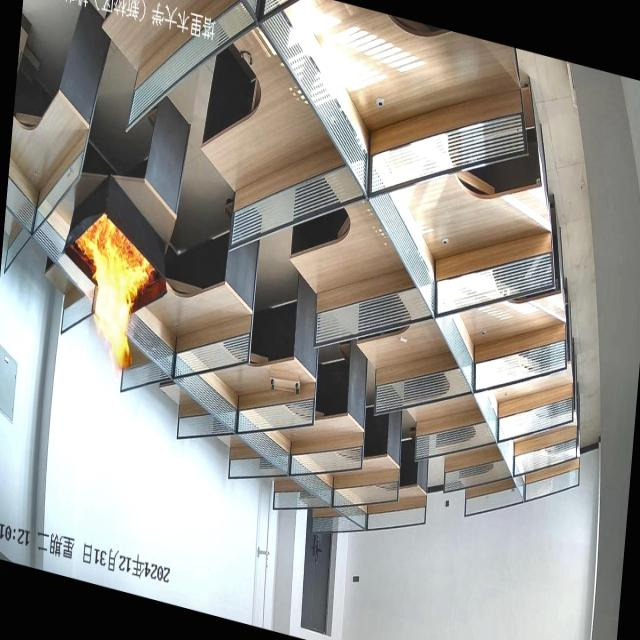fire: (54, 185, 166, 396)
